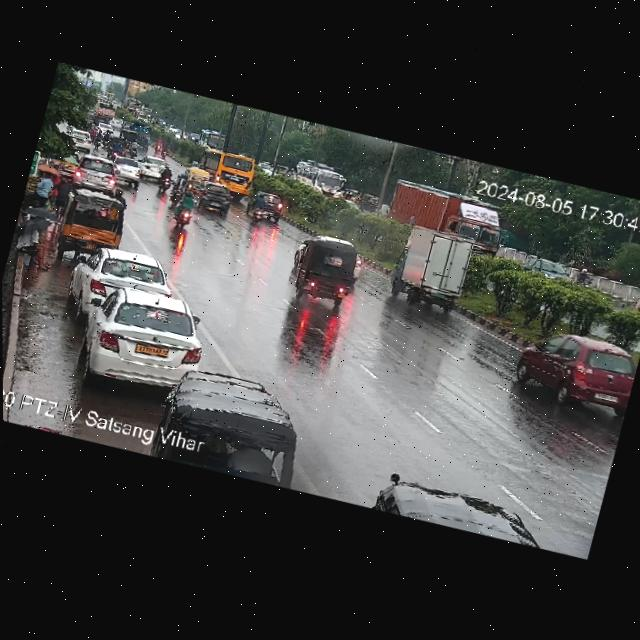bus: (194, 144, 260, 200), (287, 153, 349, 201), (197, 126, 228, 151), (139, 104, 155, 117)
car: (497, 302, 640, 428), (79, 275, 214, 402), (372, 465, 549, 552), (62, 236, 165, 324), (52, 182, 133, 268), (286, 232, 361, 309), (181, 164, 209, 195), (64, 127, 95, 154), (342, 187, 363, 206), (359, 192, 378, 213), (109, 134, 128, 148), (119, 128, 138, 142)
motorcycle: (170, 186, 198, 235), (155, 162, 174, 190), (109, 139, 122, 160), (100, 128, 112, 147), (92, 128, 103, 148), (128, 140, 140, 158), (152, 136, 164, 153), (159, 143, 169, 160)
truck: (381, 168, 511, 258), (384, 219, 473, 319), (91, 96, 118, 120), (120, 94, 142, 115)
